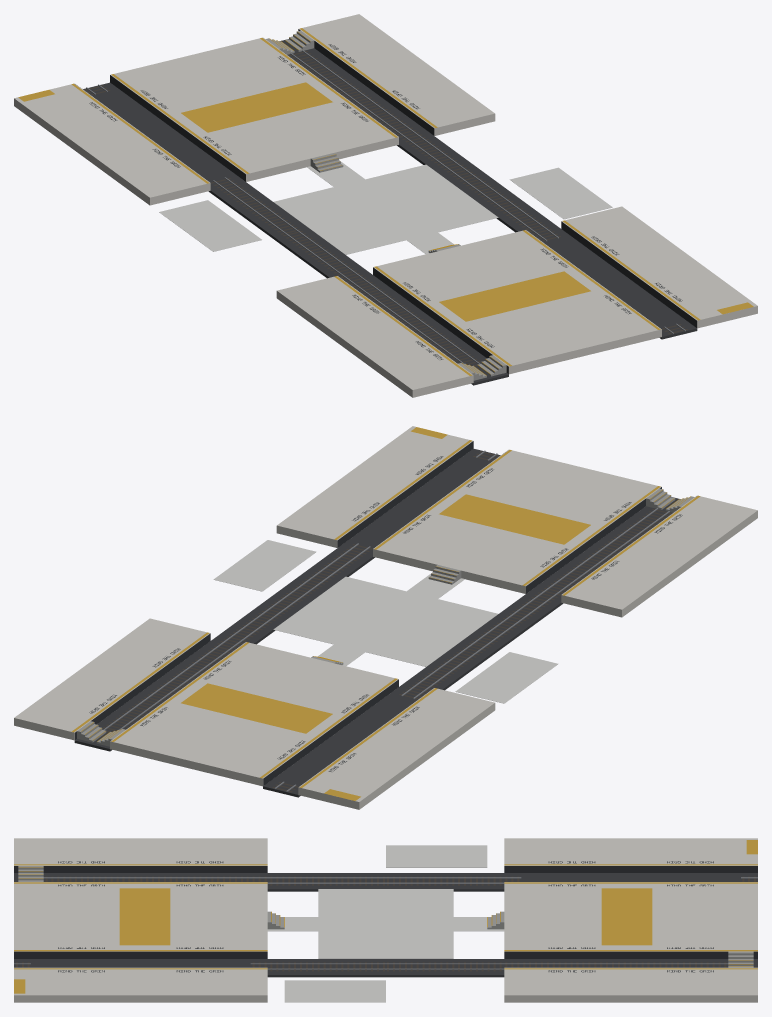
The model's file is ug-platforms.glb.
3 views of the same model, one above another, from view 1: azimuth 30°, elevation 25°; view 2: azimuth 150°, elevation 25°; view 3: azimuth 270°, elevation 25° (orthographic). The views are drawn at different scales.
Visible parts, largest first — view 1: ug-platforms; view 2: ug-platforms; view 3: ug-platforms.
Boxes of the visible parts, left/top/right/bottom form: ug-platforms: left=14, top=14, right=757, bottom=397; ug-platforms: left=14, top=426, right=757, bottom=809; ug-platforms: left=14, top=838, right=757, bottom=1002.
Bounding box in the file's own units: 44 × 1.26 × 88.
